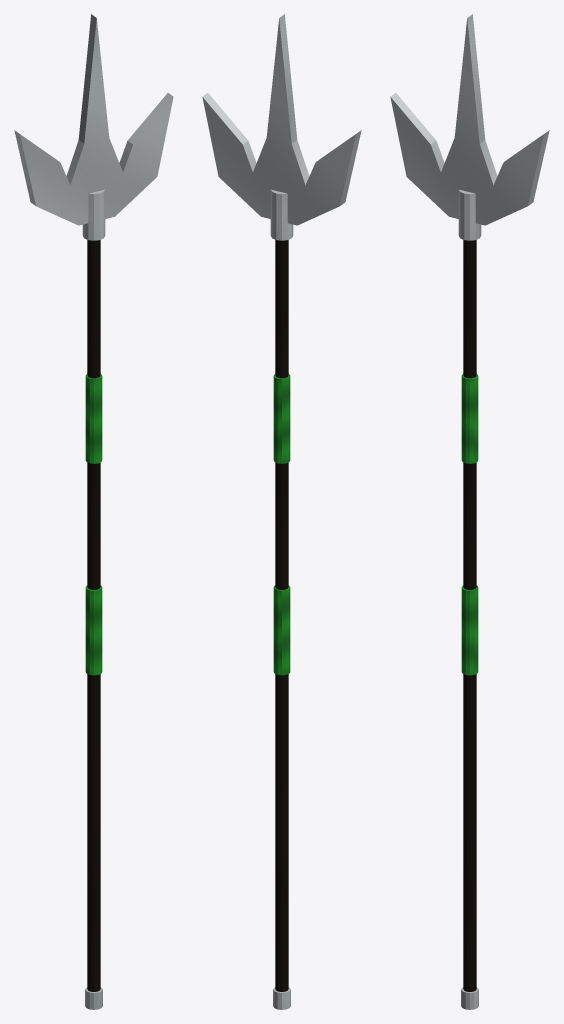
The model's file is mm8_m568_polearm.glb.
3 renders of one model, left to right at view 1: azimuth 30°, elevation 25°; view 2: azimuth 150°, elevation 25°; view 3: azimuth 330°, elevation 25°, orthographic.
Visible parts, largest first — view 1: Polearm; view 2: Polearm; view 3: Polearm.
Boxes of the visible parts, x1,y1,x2,y2 form: Polearm: (14,14,173,1009); Polearm: (202,14,361,1009); Polearm: (390,14,549,1009).
Size of the model in its own units: 0.38 by 2.34 by 0.048.
1 material, 1 textured.
